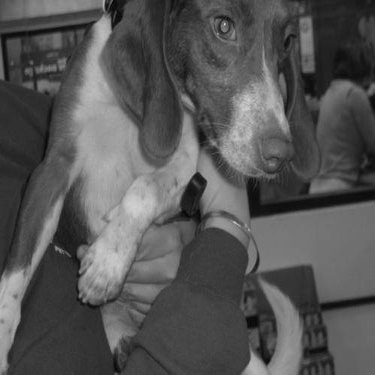dog: (6, 1, 326, 371)
